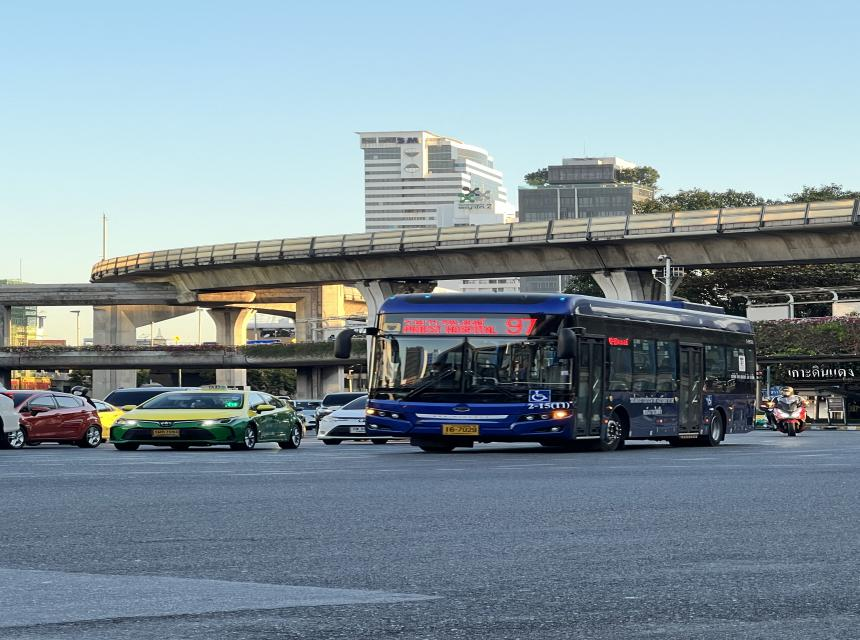Bus Line Number: (505, 314, 540, 336)
Bus Side Number: (526, 401, 574, 411)
Destination Sign: (396, 315, 502, 336)
TSB-Bus: (364, 293, 758, 453)
